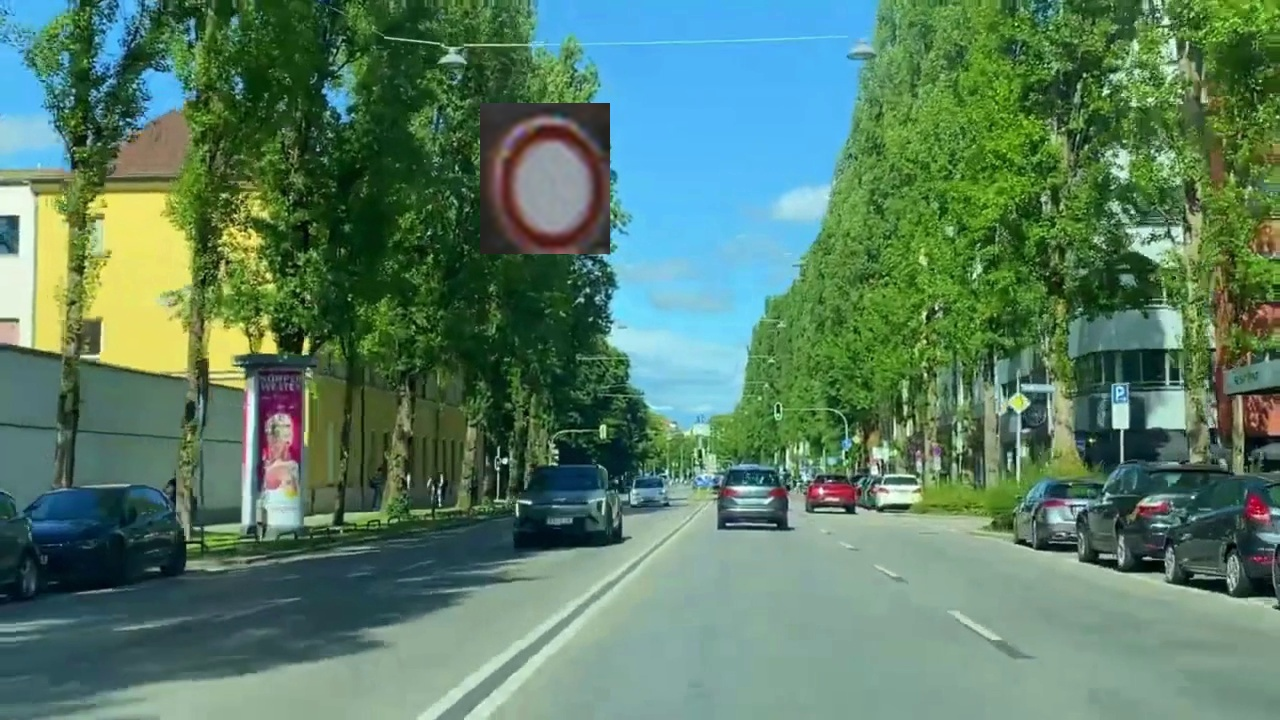No vehicles: (480, 103, 610, 254)
